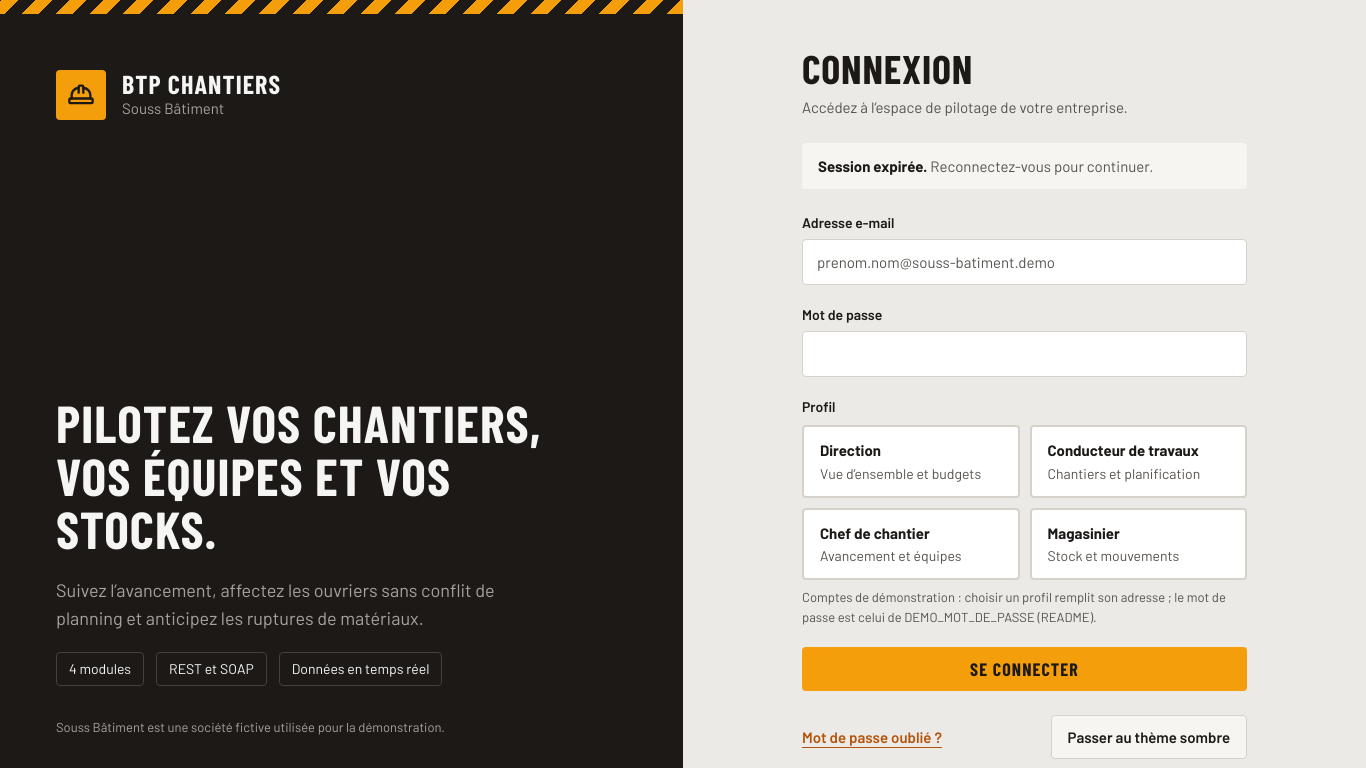
Test: Session expirée dans l’application › un 401 d’une API ramène à /connexion avec « Session expirée », puis à la page après reconnexion
The image size is (1366, 768).
Expected: the heading "Connexion" is shown, x1=802 y1=44 x2=973 y2=92
Expected: the text "Session expirée." is shown, x1=818 y1=156 x2=927 y2=174
// Mode réel : choisir un profil remplit l'adresse, pas le mot de passe.
Click the radio button labelled "Conducteur de travaux Chantiers et planification" at (1138, 461), box x1=1030 y1=425 x2=1247 y2=498
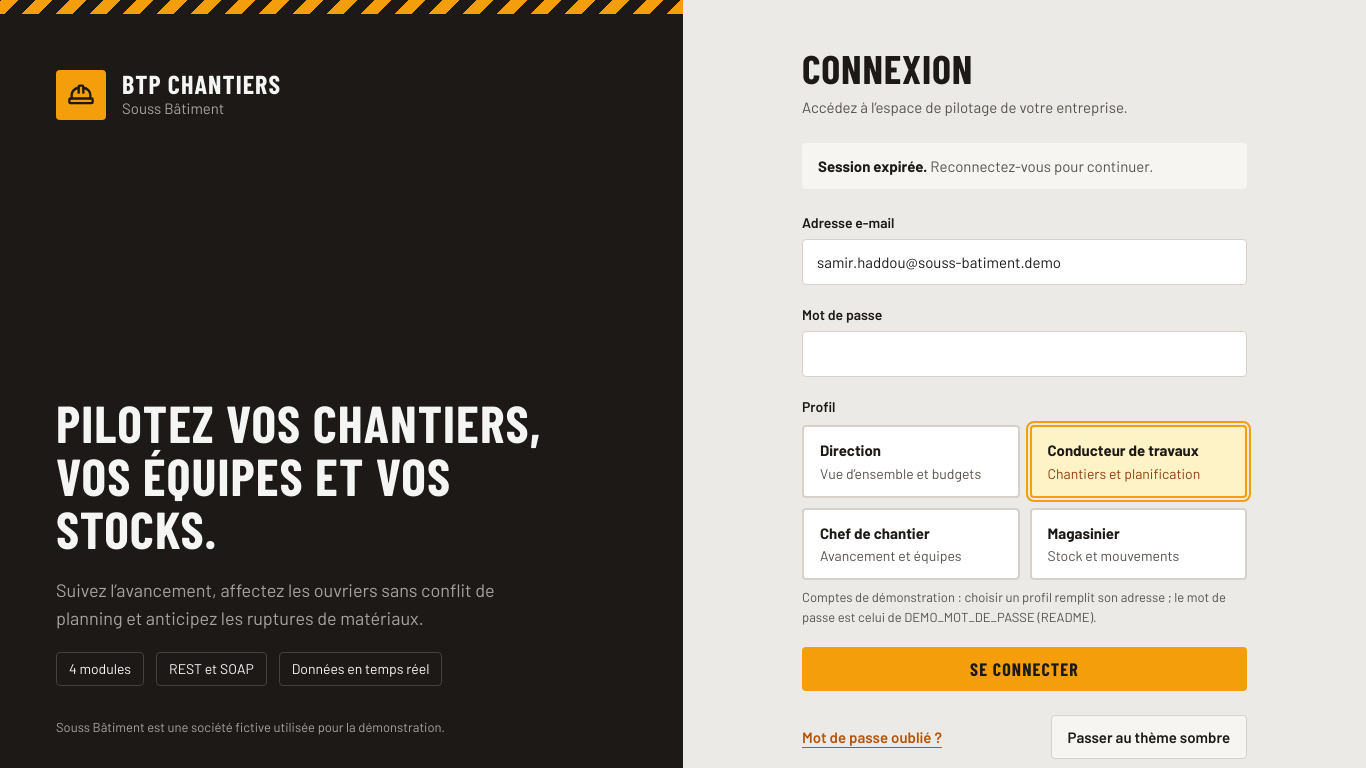
Expected: the field labelled "Adresse e-mail" holds "samir.haddou@souss-batiment.demo", x1=802 y1=239 x2=1247 y2=285
Type "secret-de-demo" into the password field labelled "Mot de passe" at (1024, 354), box x1=802 y1=331 x2=1247 y2=377
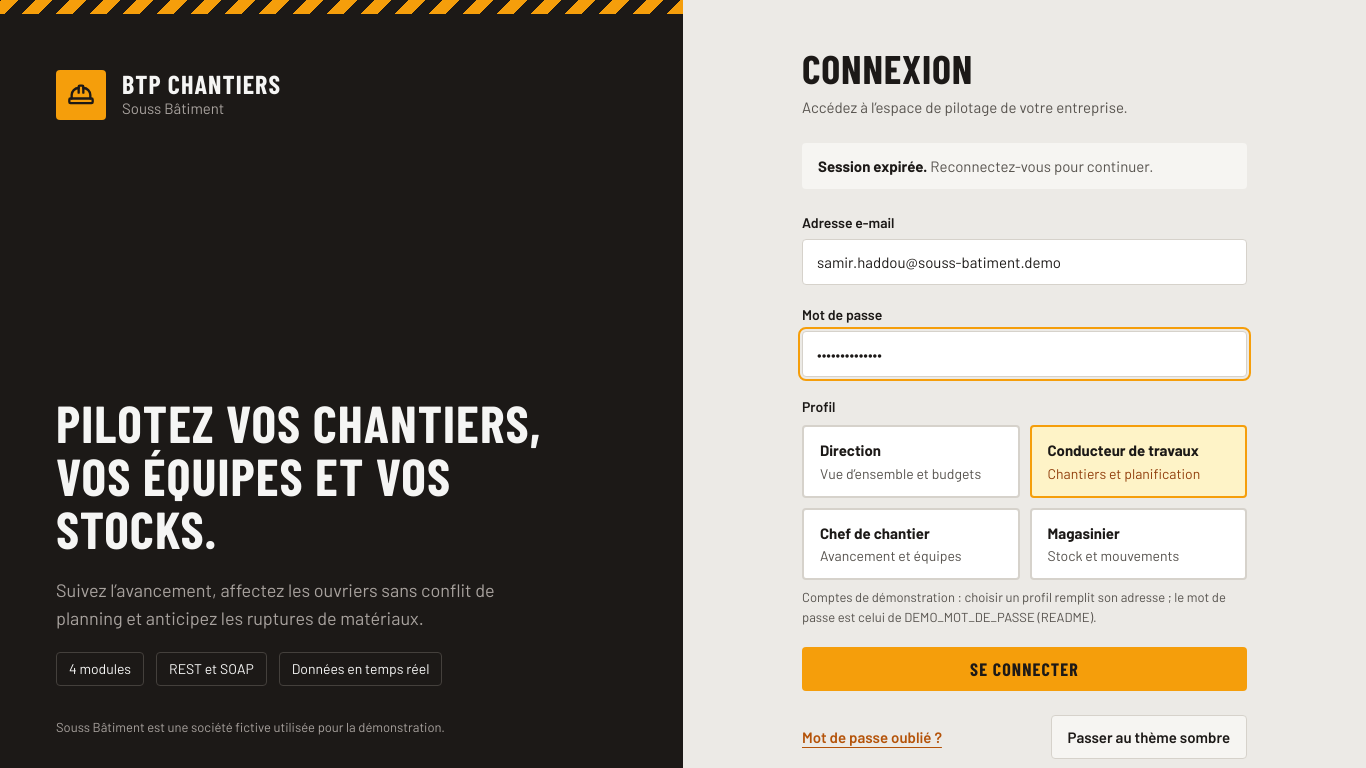
Click the button "Se connecter" at (1024, 669), box x1=802 y1=647 x2=1247 y2=691
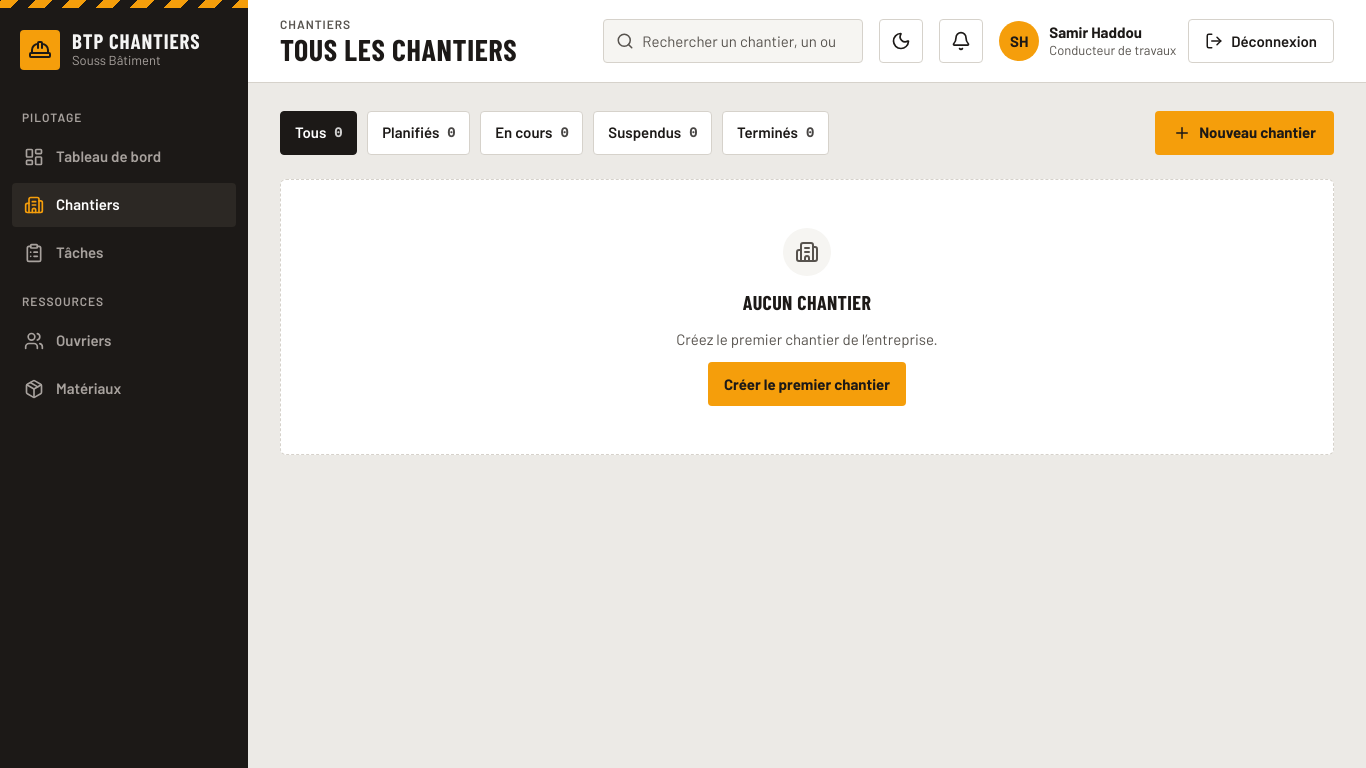
Expected: the heading "Aucun chantier" is shown, x1=743 y1=288 x2=871 y2=316
Expected: the text "Session expirée." is gone
